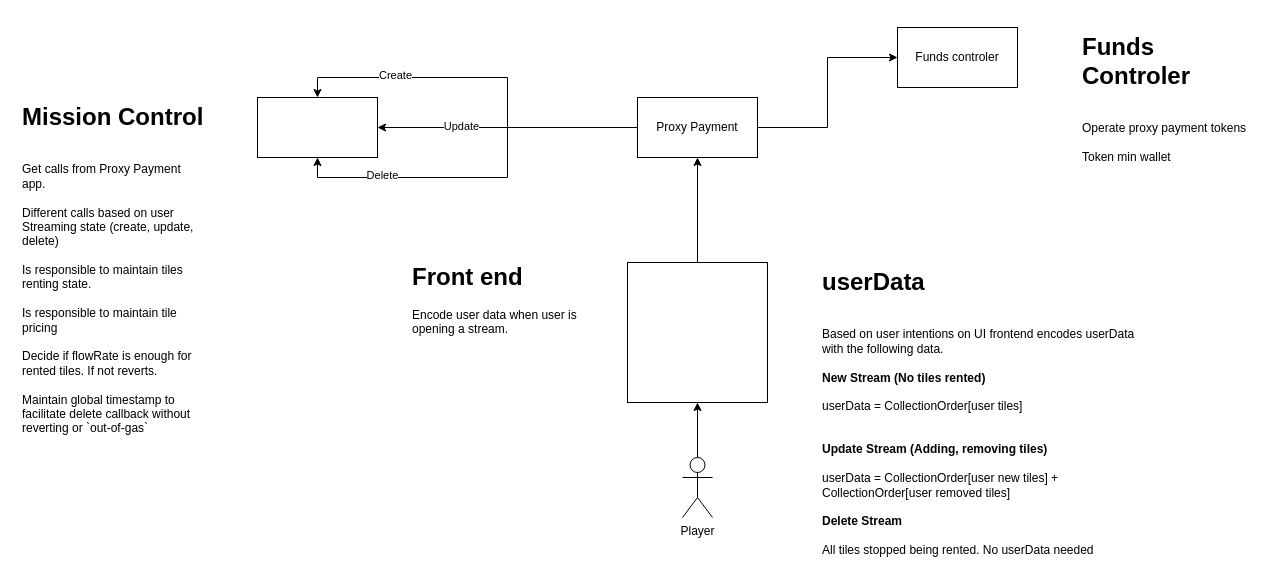
The diagram is 1284 pixels wide and 579 high, and some of its shapes have lost their labels. The box of each missing label's shape, as (x1, y1, x2, y2) in pixels:
Mission Control: (256, 96, 378, 158)
MissionControl Frontend: (626, 262, 768, 402)
